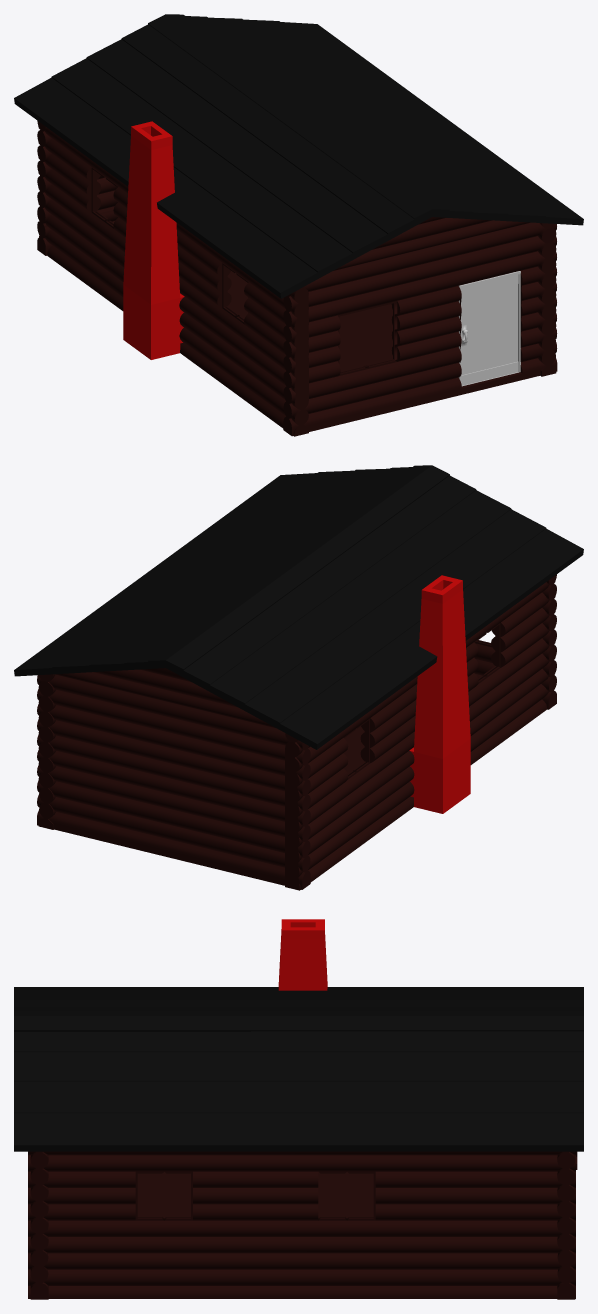
The model's file is House.obj.
3 renders of one model, top to bottom at view 1: azimuth 30°, elevation 25°; view 2: azimuth 150°, elevation 25°; view 3: azimuth 270°, elevation 25°, orthographic. The views are drawn at different scales.
Parts seen in each view (by area): view 1: Roof_default6, Cabin_default7, Cabin_default4, Chimney_default3, Door_default2, Cabin_default5; view 2: Roof_default6, Cabin_default7, Cabin_default4, Chimney_default3, Cabin_default5; view 3: Roof_default6, Cabin_default5, Cabin_default7, Chimney_default3.
Part boxes in pixels (x1,y1,x2,y2): Roof_default6: [14, 14, 583, 298]; Cabin_default7: [37, 121, 557, 436]; Cabin_default4: [38, 126, 308, 436]; Chimney_default3: [123, 121, 184, 359]; Door_default2: [458, 271, 520, 386]; Cabin_default5: [538, 223, 556, 376]; Roof_default6: [14, 465, 583, 749]; Cabin_default7: [37, 574, 556, 889]; Cabin_default4: [285, 581, 555, 890]; Chimney_default3: [409, 575, 470, 813]; Cabin_default5: [38, 674, 55, 829]; Roof_default6: [14, 987, 583, 1151]; Cabin_default5: [28, 1151, 575, 1298]; Cabin_default7: [30, 1151, 575, 1299]; Chimney_default3: [278, 919, 327, 990].
Bounding box in the file's own units: 4.26 × 2.81 × 6.32.
